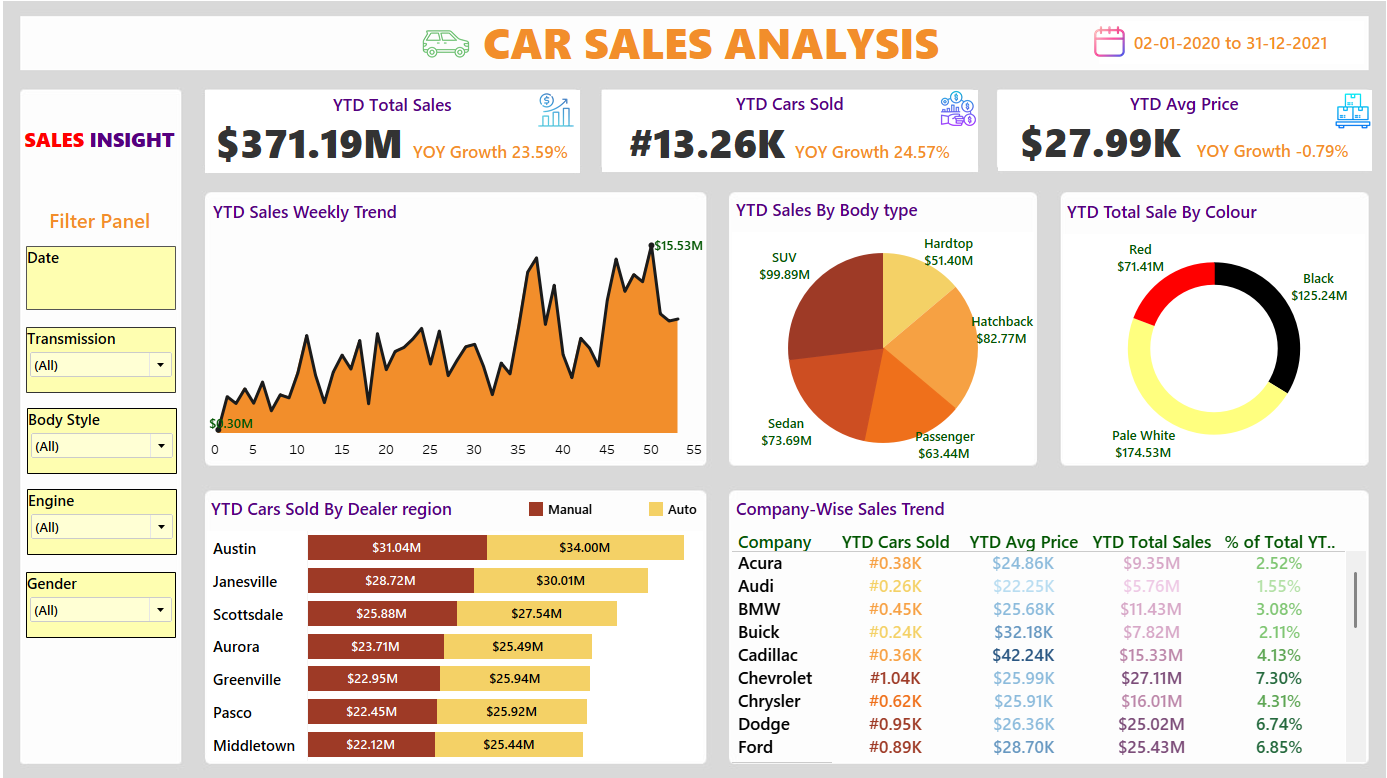

This screenshot's page, from the dashboard's own definition file:
{"tool":"tableau","page":{"name":"Dashboard 1","canvas":[1000,1000],"units":"permille","ordinal":0},"visuals":[{"type":"image","param":"C:/Users/suraj/Pictures/Saved Pictures/Car Sales Background.jpg","box":[4.9,10,990.3,980]},{"type":"text","box":[369.7,29.9,295.2,72.3]},{"type":"image","param":"C:/Users/suraj/Pictures/Saved Pictures/Car Icon.png","box":[326.7,33.7,44.2,68.6]},{"type":"worksheet","title":"date range","mark":"Automatic","box":[744.9,39.9,160.6,53.6]},{"type":"image","param":"C:/Users/suraj/Pictures/Saved Pictures/calendar.png","box":[740.6,43.6,21.2,42.4]},{"type":"worksheet","title":"YTD Total Sales","mark":"Automatic","box":[203,125.9,227.3,103.5]},{"type":"image","param":"C:/Users/suraj/Pictures/Saved Pictures/Sales Icon.png","box":[401.8,125.9,27.3,48.6]},{"type":"worksheet","title":"YTD Cars Sold","mark":"Automatic","box":[443.6,125.9,227.9,102.2]},{"type":"image","param":"C:/Users/suraj/Pictures/Saved Pictures/Cars Sold Icon.png","box":[648.5,125.9,21.8,44.9]},{"type":"worksheet","title":"YTD Avg Price","mark":"Automatic","box":[683.6,125.9,226.7,101]},{"type":"image","param":"C:/Users/suraj/Pictures/Saved Pictures/Avg Price Icon.png","box":[887.3,127.2,22.4,48.6]},{"type":"text","box":[91.5,168.3,95.2,37.4]},{"type":"worksheet","title":"YTD Sales By Body type","mark":"Pie","box":[522.4,255.6,183,336.7]},{"type":"worksheet","title":"YTD Sales Weekly Trend","mark":"Area","rows":["Calculation_856528382966374400","Calculation_856528382966374400"],"cols":["Date"],"box":[205.5,258.1,300,332.9]},{"type":"worksheet","title":"YTD Total Sale By Colour","mark":"Pie","rows":["Calculation_856528382992936970","Calculation_856528382992973836"],"box":[723,258.1,183,332.9]},{"type":"text","box":[106.7,269.3,63,37.4]},{"type":"filter","title":"YTD Sales Weekly Trend","param":"[federated.0tbq1zu1937s3o16yhd8l01vc59x].[none:Date:qk]","box":[94.5,320.4,90.9,79.8]},{"type":"filter","title":"YTD Sales Weekly Trend","param":"[federated.0tbq1zu1937s3o16yhd8l01vc59x].[none:Transmission:nk]","box":[94.5,421.4,90.9,82.3]},{"type":"filter","title":"YTD Sales Weekly Trend","param":"[federated.0tbq1zu1937s3o16yhd8l01vc59x].[none:Body Style:nk]","box":[95.2,522.4,90.9,82.3]},{"type":"filter","title":"YTD Sales Weekly Trend","param":"[federated.0tbq1zu1937s3o16yhd8l01vc59x].[none:Engine:nk]","box":[95.2,623.4,90.9,82.3]},{"type":"worksheet","title":"YTD Cars Sold By Dealer region","mark":"Automatic","rows":["Dealer_Region"],"cols":["Calculation_856528382966374400"],"box":[204.2,628.4,300.6,334.2]},{"type":"worksheet","title":"Company-Wise Sales Trend","mark":"Automatic","rows":["Company"],"box":[522.4,628.4,384.2,336.7]},{"type":"legend","title":"YTD Cars Sold By Dealer region","param":"[federated.0tbq1zu1937s3o16yhd8l01vc59x].[none:Transmission:nk]","box":[397.6,635.9,150.9,31.2]},{"type":"filter","title":"YTD Sales Weekly Trend","param":"[federated.0tbq1zu1937s3o16yhd8l01vc59x].[none:Gender:nk]","box":[94.5,726.9,90.9,82.3]}]}

Visuals, with their boxes on the dashboard's canvas, which has no fixed pixel size, in thousandths of its width and height (x1, y1, x2, y2). These are canvas units, not pixel positions in the 1387x778 screenshot, which may show the page scaled, cropped or inside an application window:
image: BBox(5, 10, 995, 990)
text: BBox(370, 30, 665, 102)
image: BBox(327, 34, 371, 102)
"date range" worksheet: BBox(745, 40, 906, 94)
image: BBox(741, 44, 762, 86)
"YTD Total Sales" worksheet: BBox(203, 126, 430, 229)
image: BBox(402, 126, 429, 174)
"YTD Cars Sold" worksheet: BBox(444, 126, 672, 228)
image: BBox(648, 126, 670, 171)
"YTD Avg Price" worksheet: BBox(684, 126, 910, 227)
image: BBox(887, 127, 910, 176)
text: BBox(92, 168, 187, 206)
"YTD Sales By Body type" worksheet (Pie marks): BBox(522, 256, 705, 592)
"YTD Sales Weekly Trend" worksheet (Area marks): BBox(206, 258, 506, 591)
"YTD Total Sale By Colour" worksheet (Pie marks): BBox(723, 258, 906, 591)
text: BBox(107, 269, 170, 307)
"YTD Sales Weekly Trend" filter: BBox(94, 320, 185, 400)
"YTD Sales Weekly Trend" filter: BBox(94, 421, 185, 504)
"YTD Sales Weekly Trend" filter: BBox(95, 522, 186, 605)
"YTD Sales Weekly Trend" filter: BBox(95, 623, 186, 706)
"YTD Cars Sold By Dealer region" worksheet: BBox(204, 628, 505, 963)
"Company-Wise Sales Trend" worksheet: BBox(522, 628, 907, 965)
"YTD Cars Sold By Dealer region" legend: BBox(398, 636, 548, 667)
"YTD Sales Weekly Trend" filter: BBox(94, 727, 185, 809)
